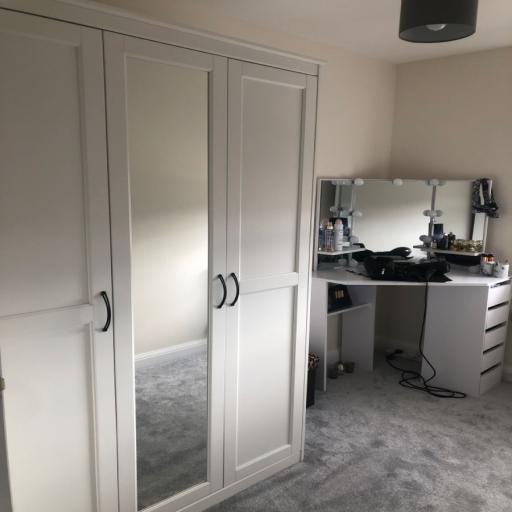car: (0, 0, 317, 511)
stroller: (310, 265, 425, 389)
